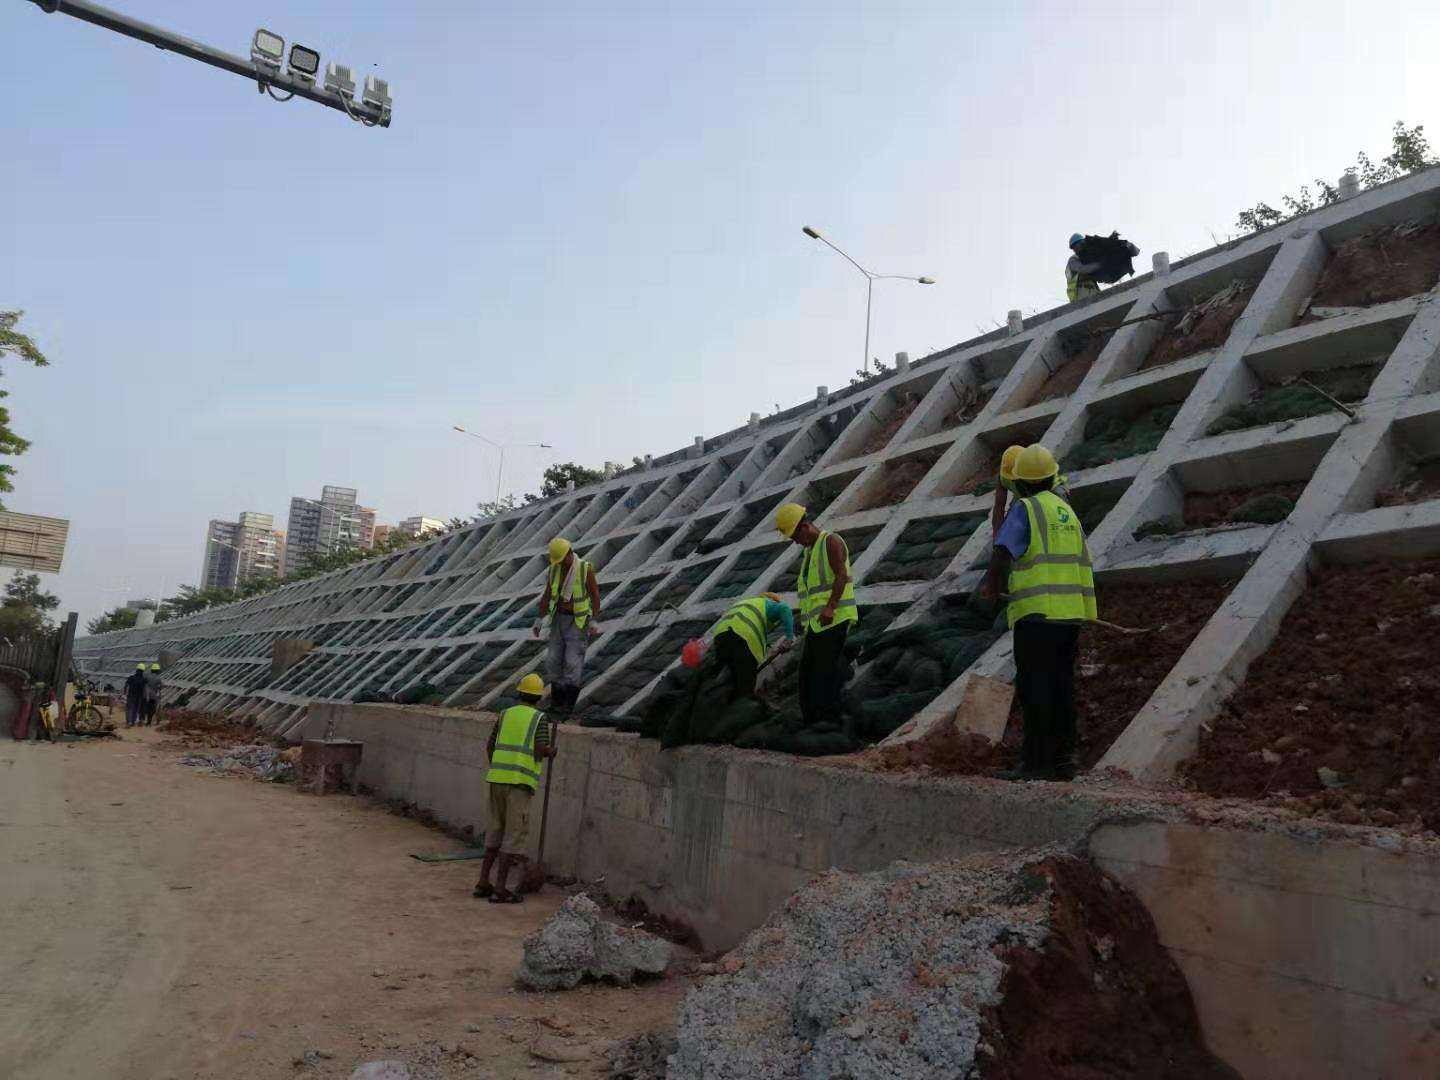ordinary_clothes: (127, 675, 145, 694), (145, 674, 162, 692)
person: (991, 443, 1100, 784), (470, 671, 560, 904), (770, 499, 861, 730), (532, 535, 601, 722), (712, 590, 794, 705), (1063, 230, 1140, 304), (138, 662, 165, 728), (122, 662, 146, 728)
reflective_vest: (1004, 489, 1099, 628), (796, 531, 861, 634), (483, 704, 543, 796), (712, 595, 770, 669), (546, 558, 593, 628), (1064, 254, 1081, 303)
safety_helmet: (1009, 444, 1062, 496), (771, 499, 818, 548), (515, 671, 547, 707), (545, 535, 575, 564), (1067, 231, 1085, 255), (135, 662, 146, 675), (150, 663, 161, 674)
